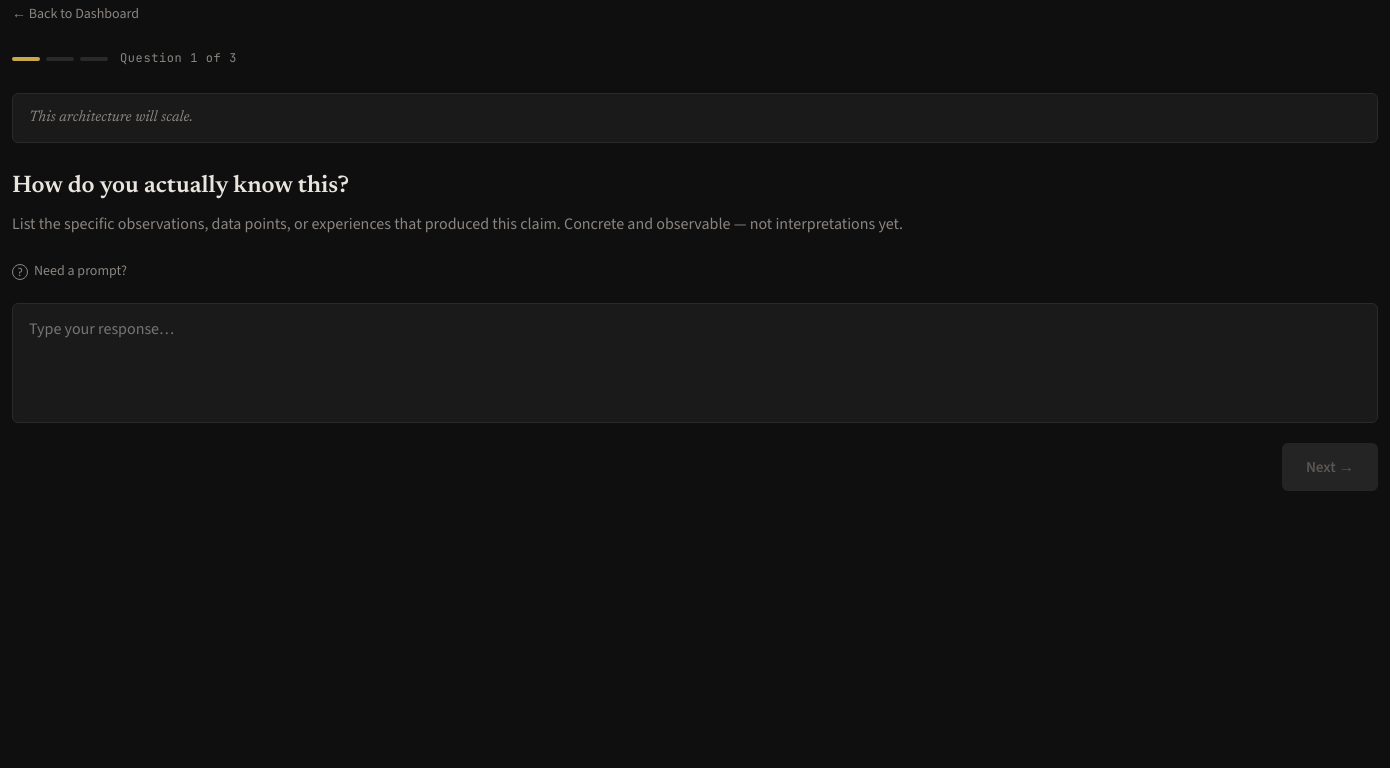
Test: PressureTest › helper prompt toggles open/closed
Step 1. Click the button "? Need a prompt?" → (69, 272), box [12, 256, 127, 287]
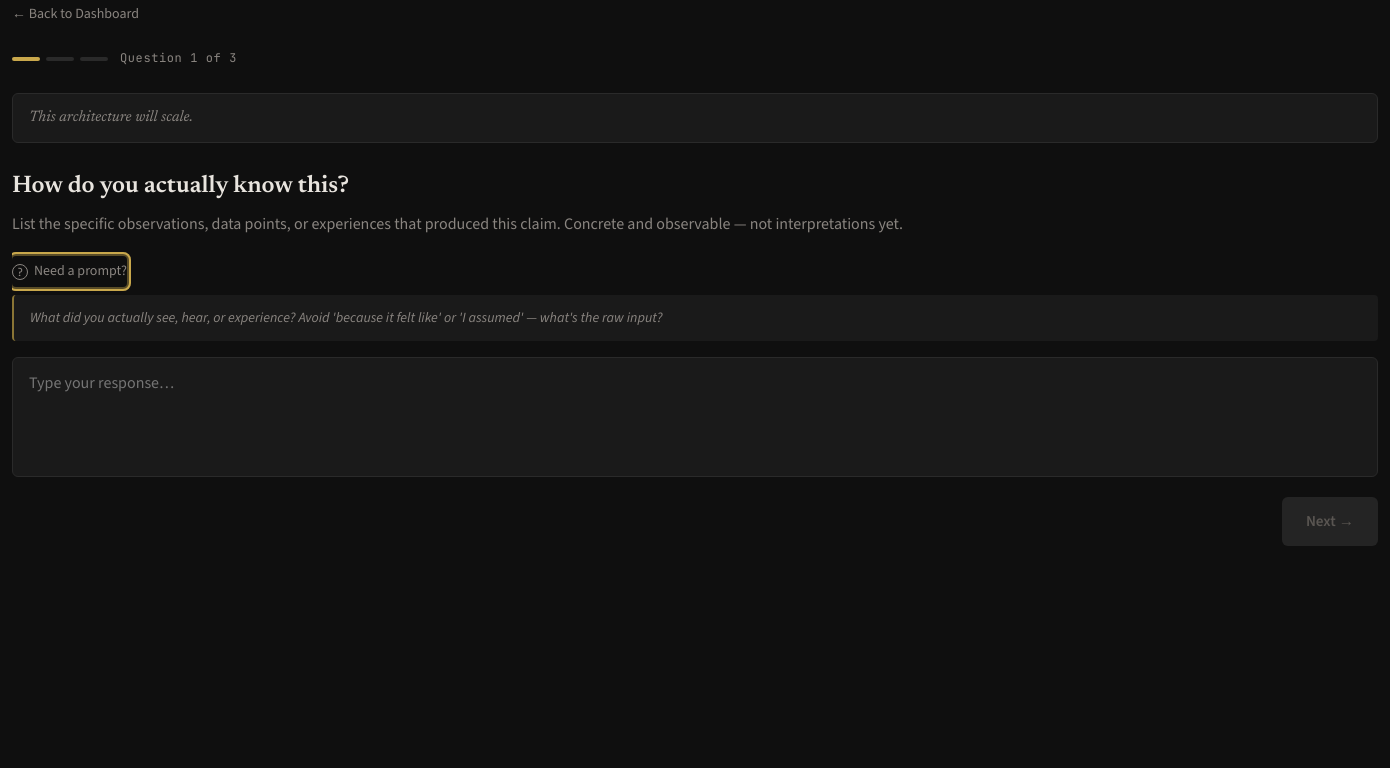
Expected: the text "What did you actually see" is shown, [30, 308, 662, 327]
Step 2. Click the button "? Need a prompt?" → (69, 272), box [12, 256, 127, 287]
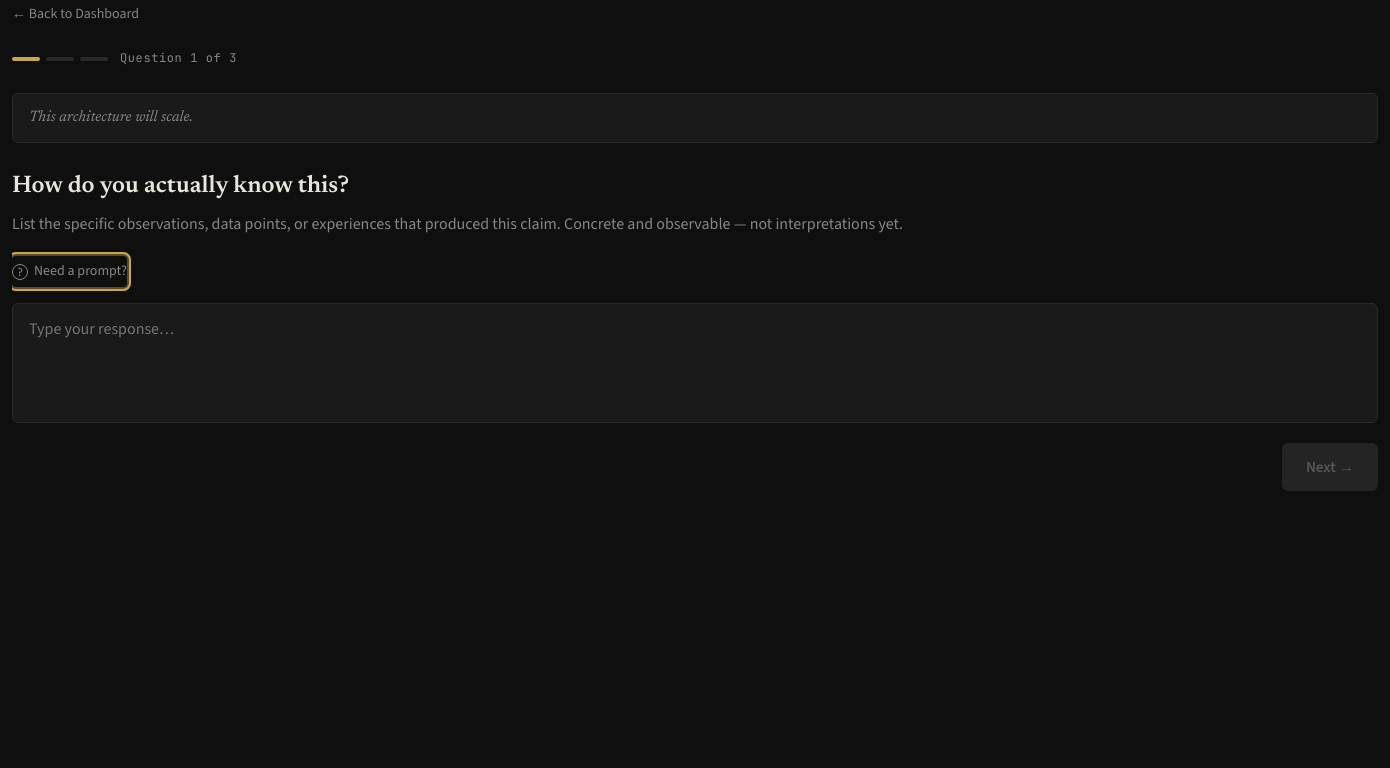
Expected: the text "What did you actually see" is gone
